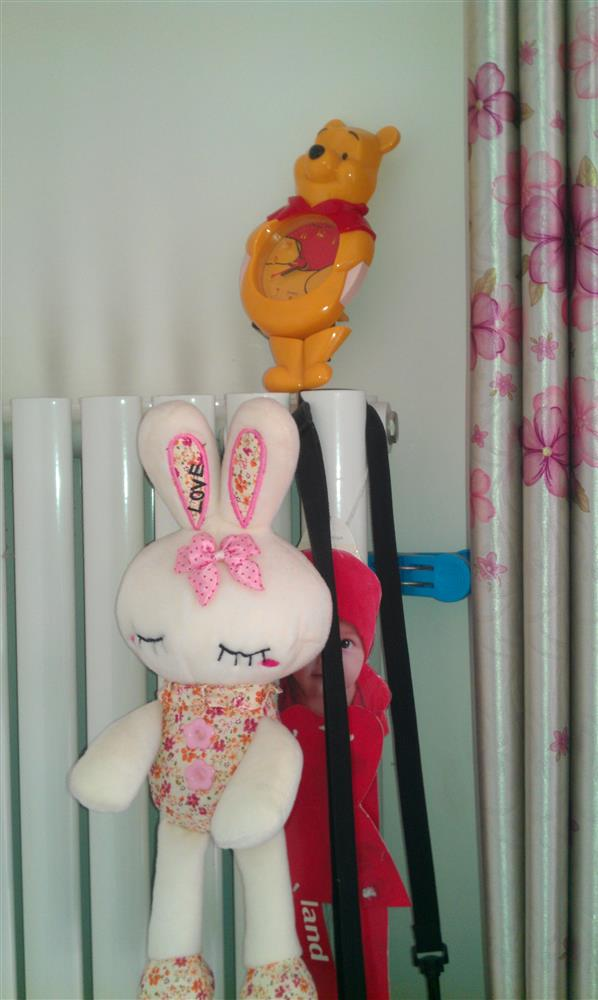pooh: (221, 115, 407, 402)
